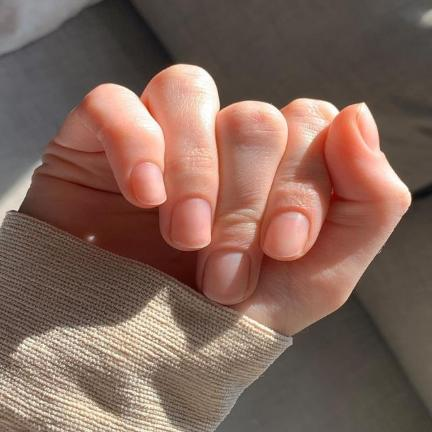Nail: (204, 251, 251, 303), (264, 211, 310, 258), (171, 197, 211, 249), (131, 162, 167, 205), (357, 102, 379, 152)
